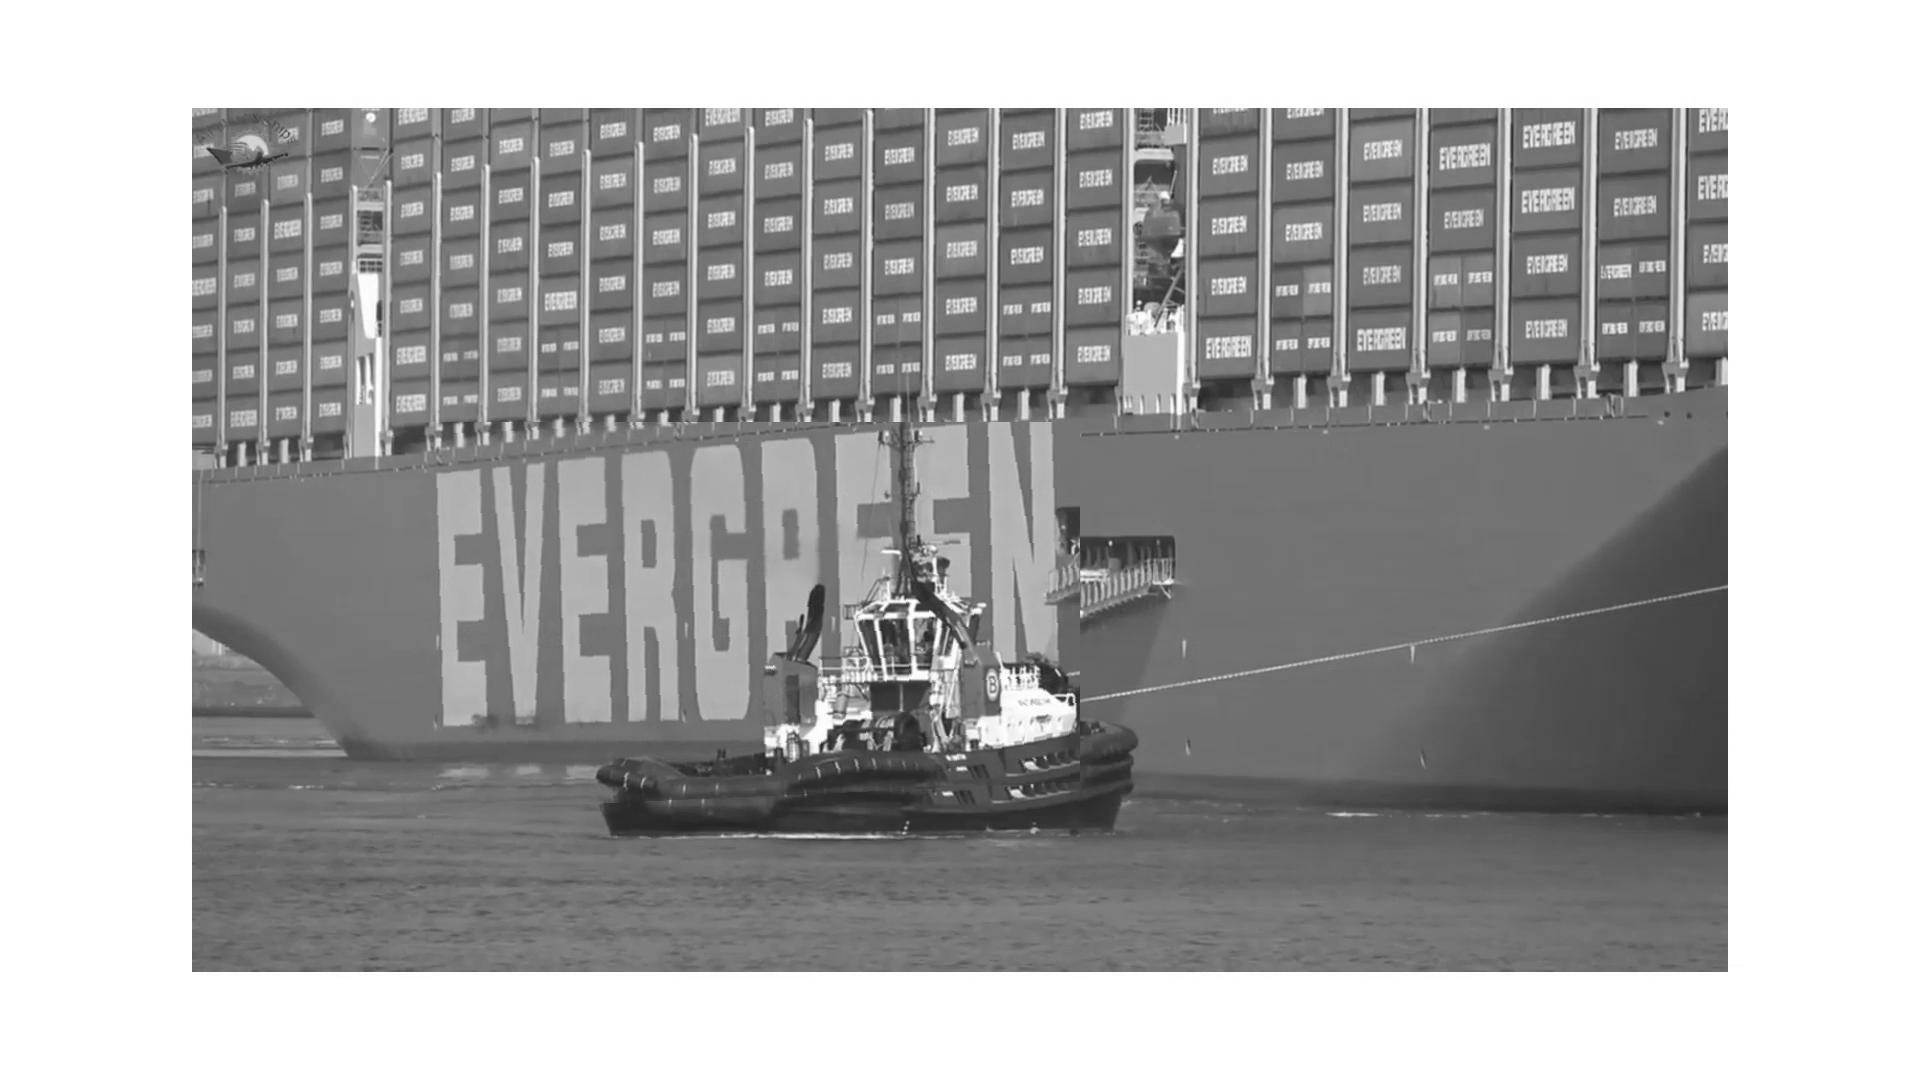OCR: (392, 422, 1080, 812)
